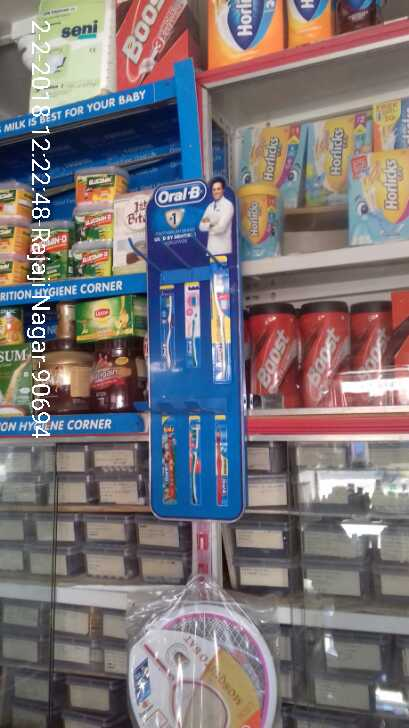oralb: (209, 256, 233, 386)
